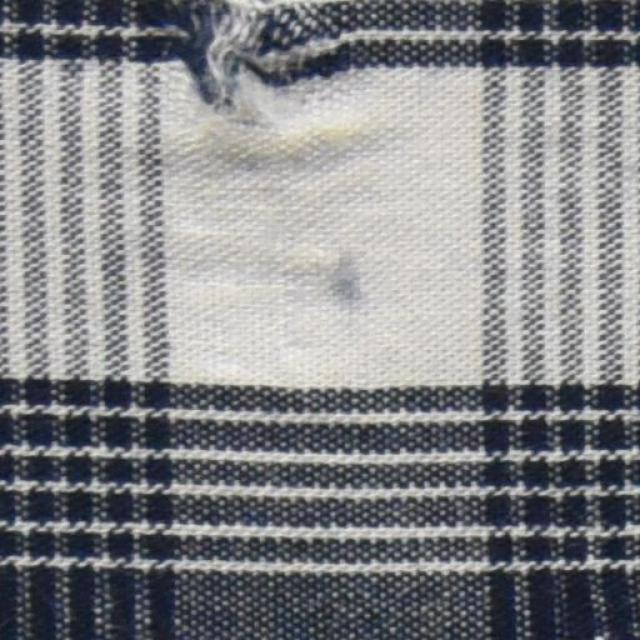Snag: (168, 0, 308, 109)
